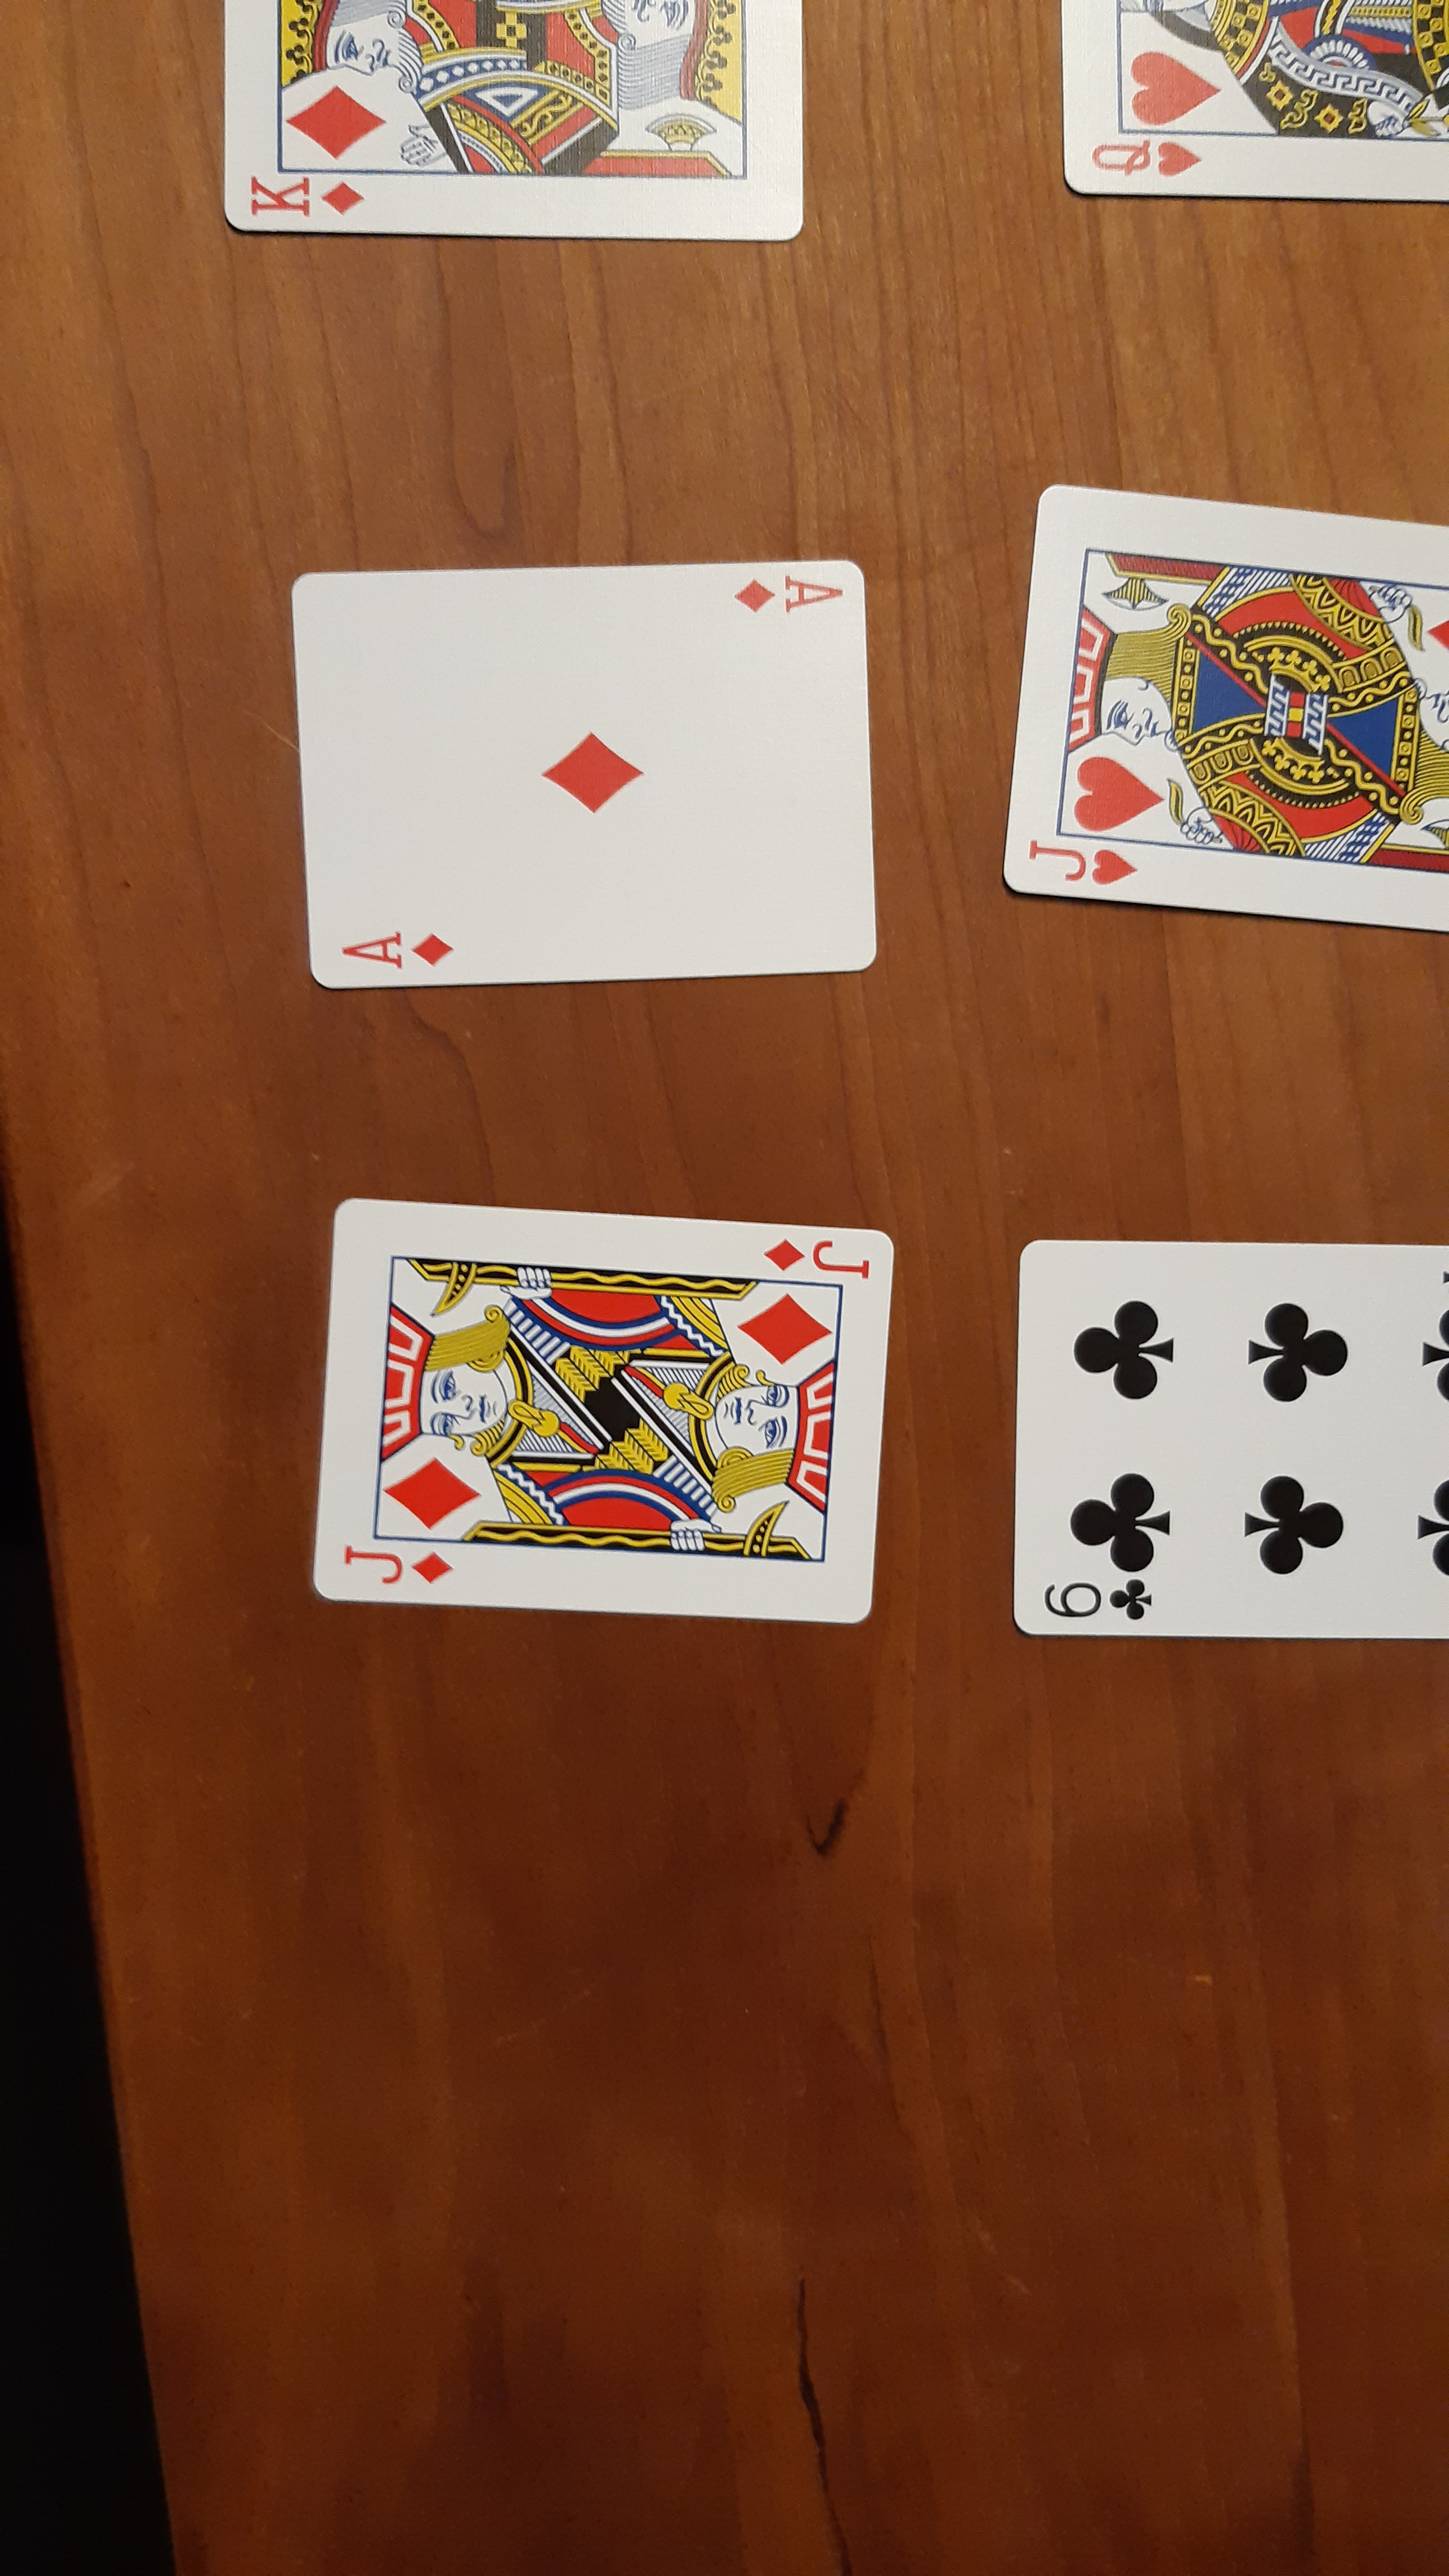Black_Club_6: (1031, 1251, 1447, 1637)
Red_Diamond_Ace: (329, 918, 462, 978), (722, 563, 847, 623)
Red_Diamond_Jack: (329, 1530, 451, 1601), (752, 1228, 881, 1288)
Red_Diamond_King: (235, 170, 372, 226)
Red_Heart_Jack: (1017, 832, 1134, 892)
Red_Heart_Queen: (1081, 129, 1214, 186)
